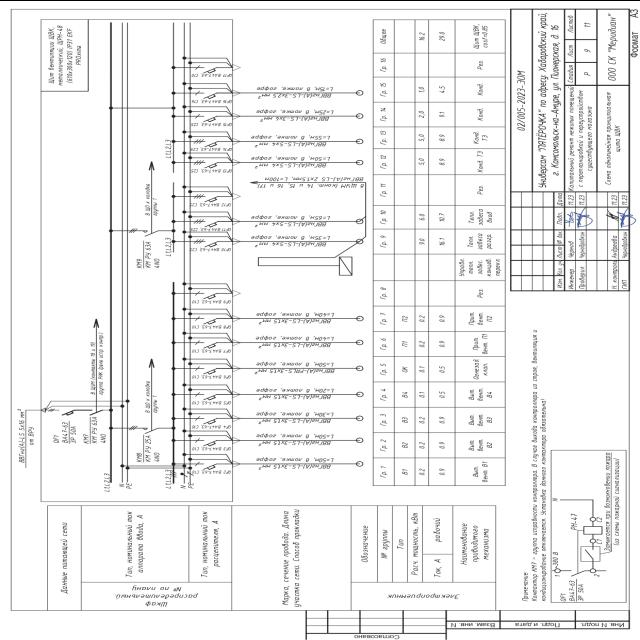-: (46, 21, 84, 86), (144, 433, 162, 463), (144, 240, 160, 270), (91, 415, 107, 443), (62, 419, 79, 444), (188, 200, 220, 207), (190, 166, 222, 172), (190, 121, 222, 127), (190, 445, 222, 451), (188, 246, 220, 252), (191, 347, 222, 353), (190, 70, 221, 76), (191, 467, 222, 473), (190, 97, 221, 103), (190, 226, 220, 232), (192, 399, 222, 405), (192, 298, 222, 304), (190, 145, 220, 151), (191, 324, 222, 329), (191, 374, 221, 379), (191, 424, 221, 429)
KM: (140, 228, 158, 236), (142, 426, 160, 434), (87, 408, 103, 415)
QF: (193, 158, 218, 168), (194, 218, 218, 227), (194, 193, 218, 202), (194, 138, 218, 147), (195, 438, 219, 446), (194, 416, 218, 424), (193, 366, 217, 374), (194, 339, 218, 347), (194, 316, 218, 324), (194, 290, 218, 298), (194, 238, 218, 246), (194, 114, 218, 122), (194, 90, 218, 98), (194, 64, 218, 72), (195, 461, 218, 469), (193, 392, 217, 399), (58, 408, 78, 416)
